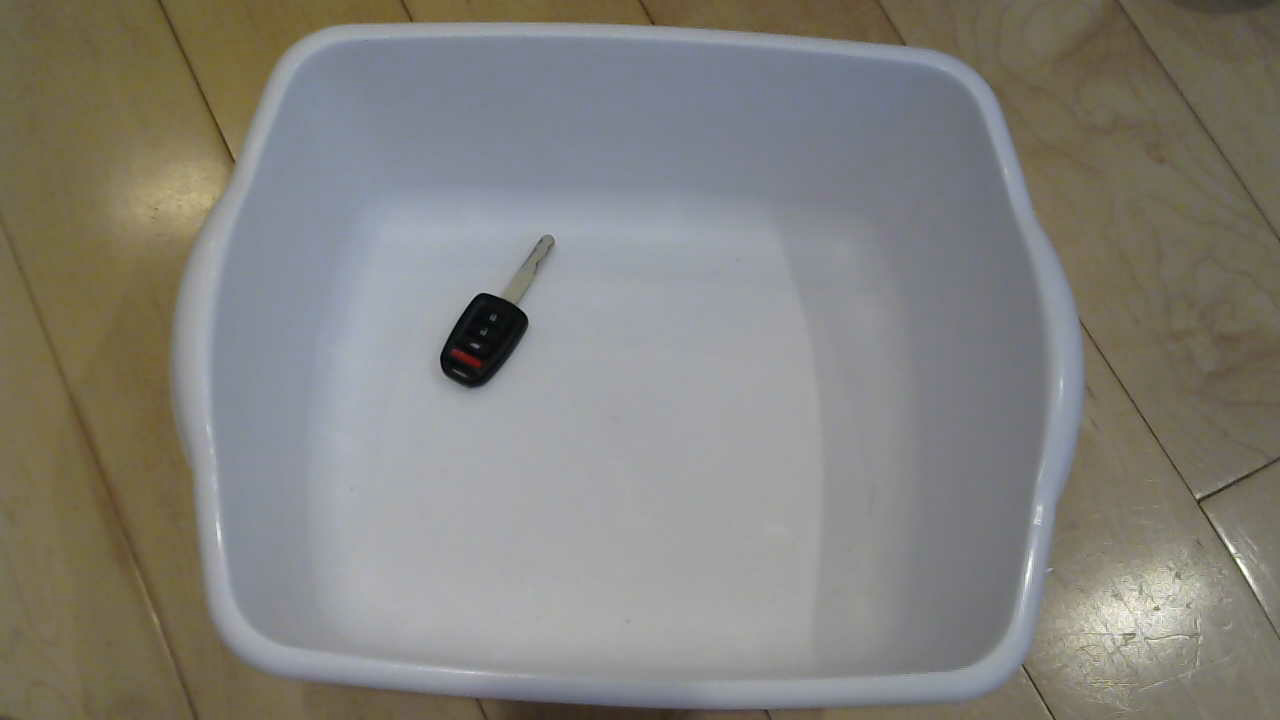key: (430, 216, 584, 390)
